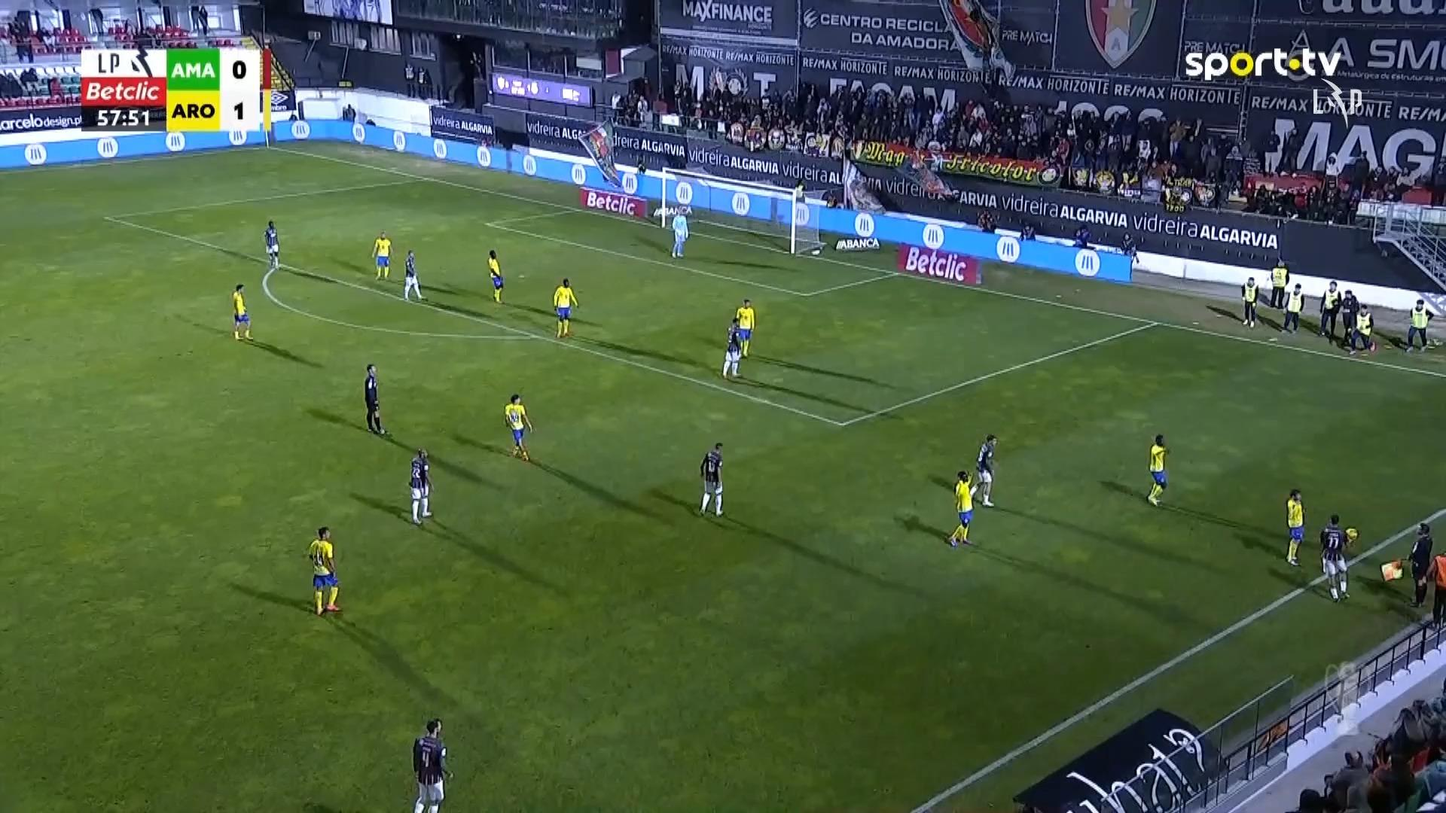ball: (1287, 56, 1301, 71), (1345, 526, 1358, 540)
goalkeeper: (670, 207, 688, 258)
player: (411, 717, 453, 811), (1319, 513, 1357, 601), (306, 525, 342, 616), (946, 469, 976, 547), (407, 446, 433, 525), (503, 393, 533, 461), (698, 442, 725, 516), (974, 433, 997, 507), (1146, 433, 1169, 506), (551, 276, 578, 338), (1285, 488, 1304, 565), (721, 318, 743, 379), (401, 249, 426, 301), (230, 282, 252, 340), (734, 297, 755, 357), (371, 230, 392, 280), (487, 249, 504, 303), (263, 219, 280, 269)
referee: (1380, 522, 1432, 607), (363, 363, 386, 435)
